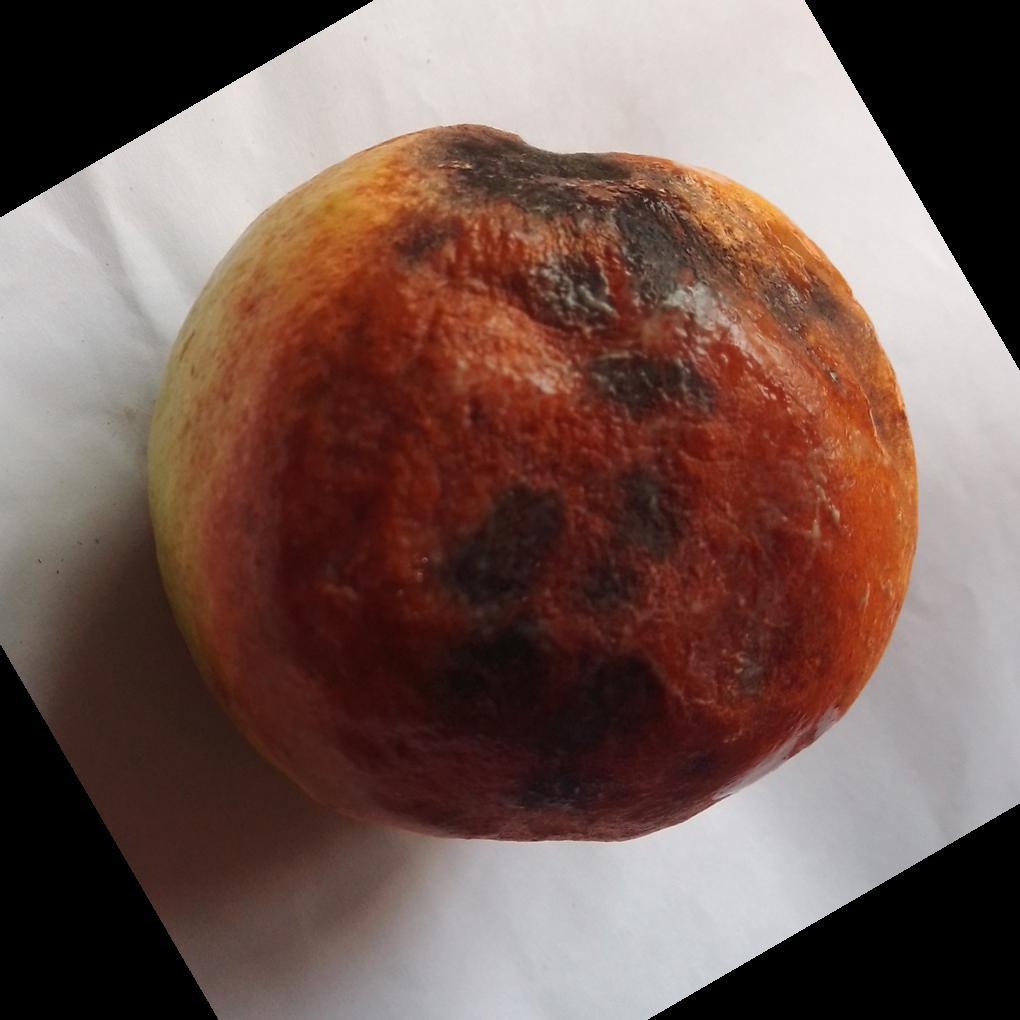FreshOrange: (142, 123, 921, 848)
